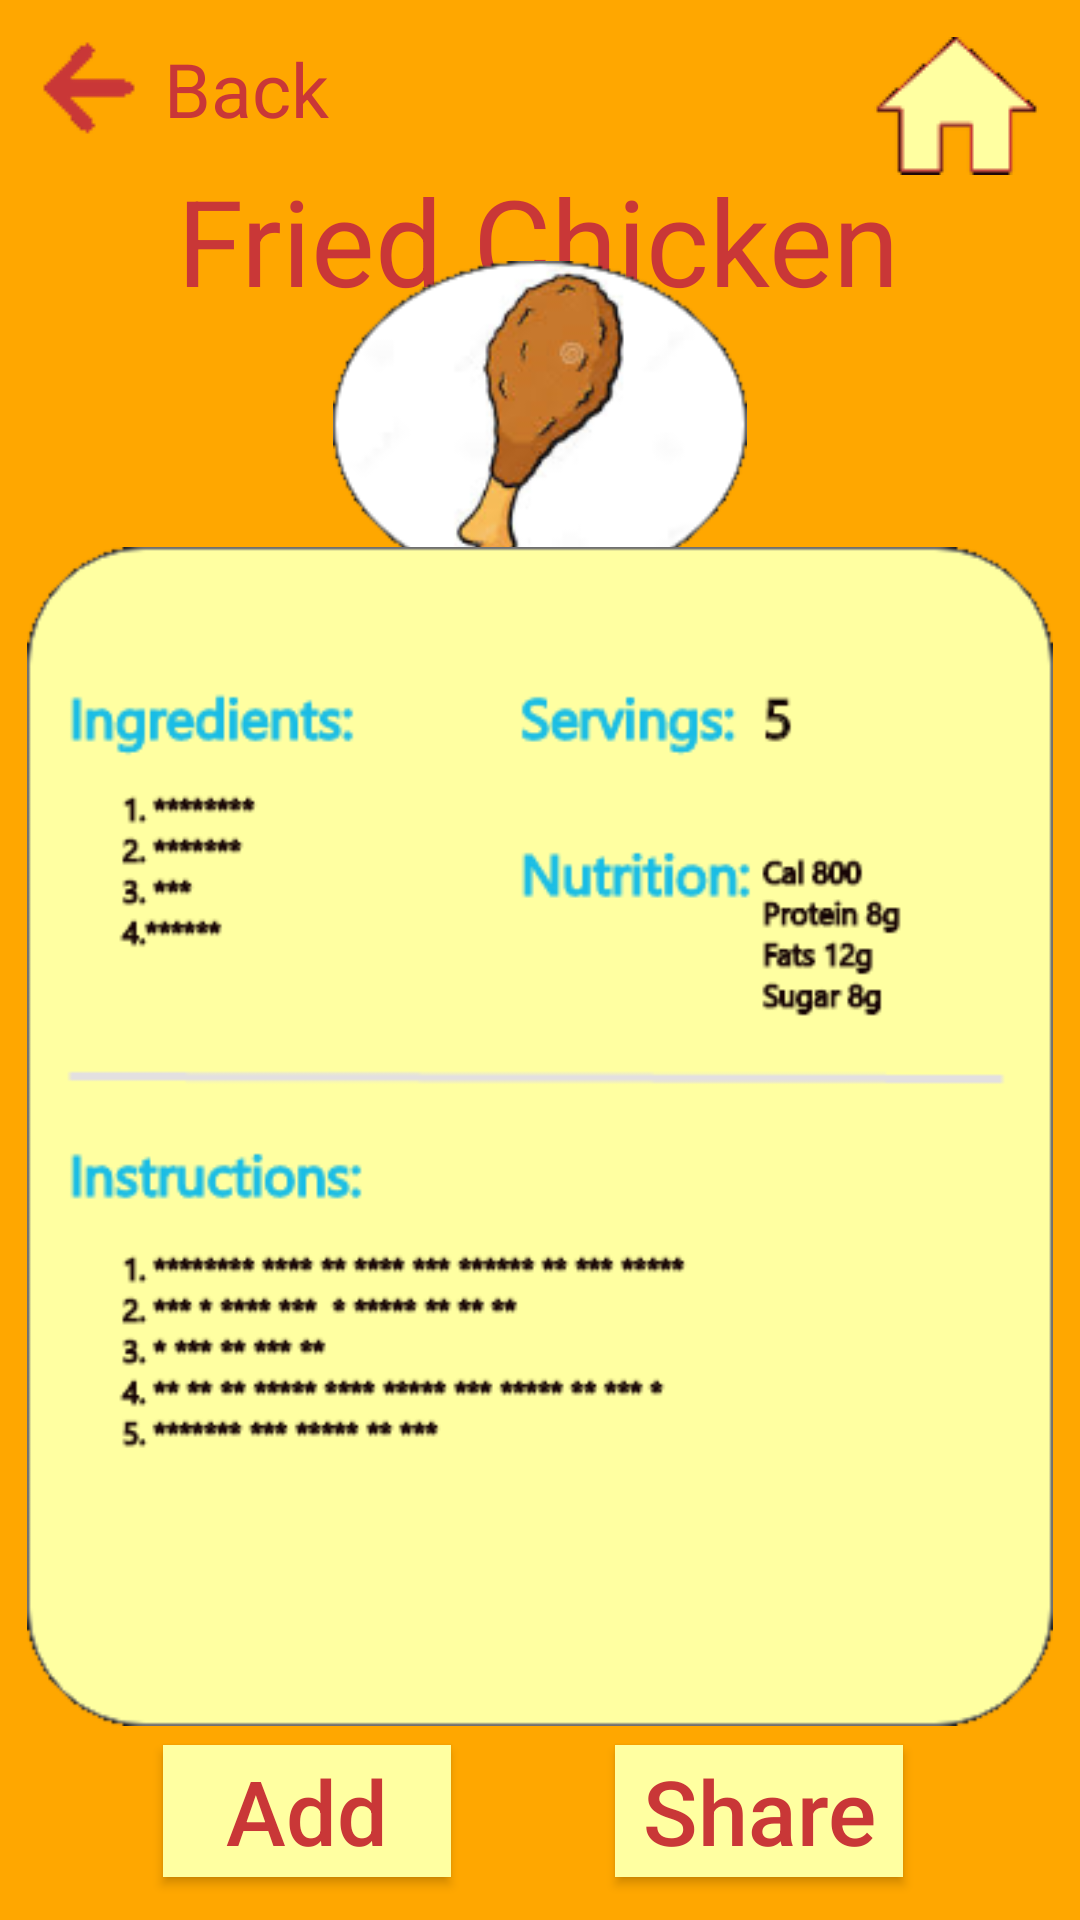

Screen size 1080×1920. Icon name, then its center in pixels as (x,y):
home: (956,106)
leftarrow: (89,88)
